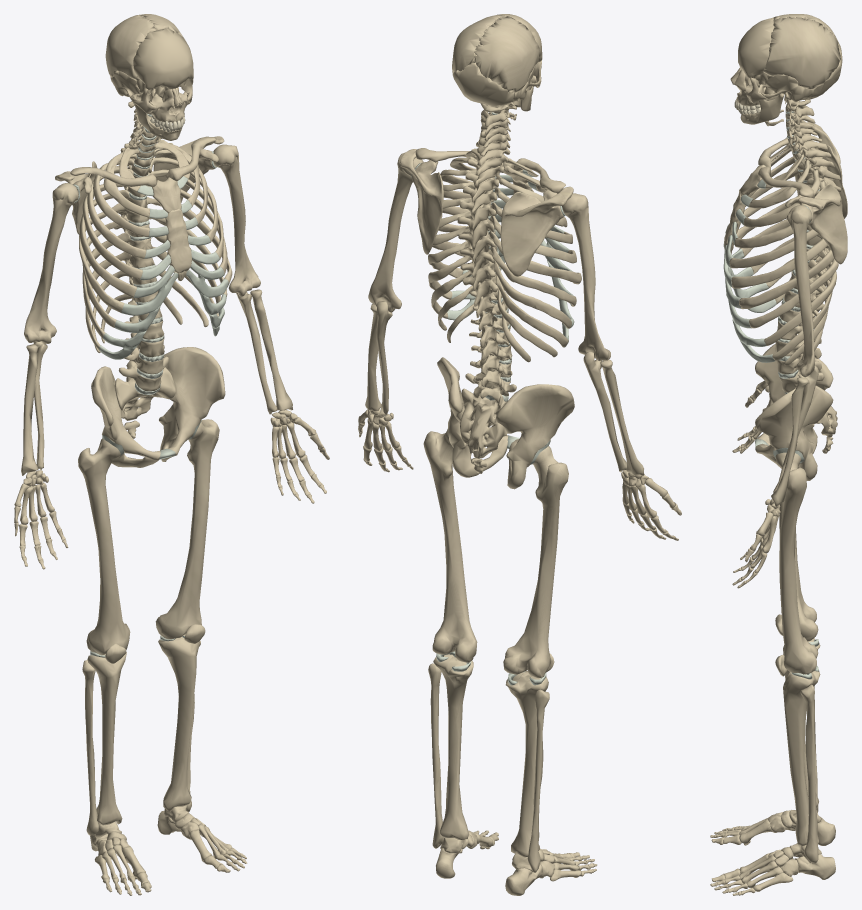
The model's file is body.skeleton.glb.
The picture shows the model from 3 angles, left to right: view 1: azimuth 30°, elevation 25°; view 2: azimuth 150°, elevation 25°; view 3: azimuth 270°, elevation 25°; orthographic projection. The views are drawn at different scales.
Visible parts, largest first — view 1: body__femur_right, body__femur_left, body__hip_bone_left, body__tibia_left, body__frontal_bone, body__tibia_right, body__humerus_right, body__humerus_left, body__hip_bone_right, body__parietal_bone_right, body__sacrum, body__fibula_right (+18 smaller); view 2: body__femur_right, body__femur_left, body__hip_bone_right, body__scapula_right, body__parietal_bone_right, body__tibia_left, body__tibia_right, body__humerus_right, body__humerus_left, body__scapula_left, body__hip_bone_left, body__sacrum (+15 smaller); view 3: body__femur_left, body__parietal_bone_left, body__hip_bone_left, body__tibia_left, body__humerus_left, body__scapula_left, body__fibula_left, body__frontal_bone, body__hip_bone_right, body__radius_left, body__femur_right, body__seventh_rib_left (+27 smaller).
Part boxes in pixels (<box>): body__femur_right: <box>78,438,130,655</box>; body__femur_left: <box>155,419,219,639</box>; body__hip_bone_left: <box>159,347,225,461</box>; body__tibia_left: <box>158,633,199,811</box>; body__frontal_bone: <box>133,28,193,91</box>; body__tibia_right: <box>87,652,126,825</box>; body__humerus_right: <box>24,183,78,343</box>; body__humerus_left: <box>213,144,260,296</box>; body__hip_bone_right: <box>91,366,160,467</box>; body__parietal_bone_right: <box>105,15,157,79</box>; body__sacrum: <box>115,367,175,420</box>; body__fibula_right: <box>82,659,98,835</box>; body__femur_right: <box>503,446,568,678</box>; body__femur_left: <box>423,429,477,662</box>; body__hip_bone_right: <box>495,384,574,489</box>; body__scapula_right: <box>500,186,573,276</box>; body__parietal_bone_right: <box>474,16,539,93</box>; body__tibia_left: <box>433,654,473,839</box>; body__tibia_right: <box>505,671,548,857</box>; body__humerus_right: <box>562,193,610,361</box>; body__humerus_left: <box>368,152,423,312</box>; body__scapula_left: <box>400,149,443,254</box>; body__hip_bone_left: <box>437,357,508,477</box>; body__sacrum: <box>459,388,507,458</box>; body__femur_left: <box>775,452,818,674</box>; body__parietal_bone_left: <box>763,17,840,89</box>; body__hip_bone_left: <box>755,385,833,480</box>; body__tibia_left: <box>783,671,820,846</box>; body__humerus_left: <box>786,205,814,377</box>; body__scapula_left: <box>785,183,847,264</box>; body__fibula_left: <box>800,684,818,862</box>; body__frontal_bone: <box>738,17,774,78</box>; body__hip_bone_right: <box>755,344,833,453</box>; body__radius_left: <box>771,377,808,506</box>; body__femur_right: <box>779,501,818,641</box>; body__seventh_rib_left: <box>739,249,834,309</box>.
Bounding box in the file's own units: 0.6693 × 1.7 × 0.2501.
3 materials, 3 textured.
